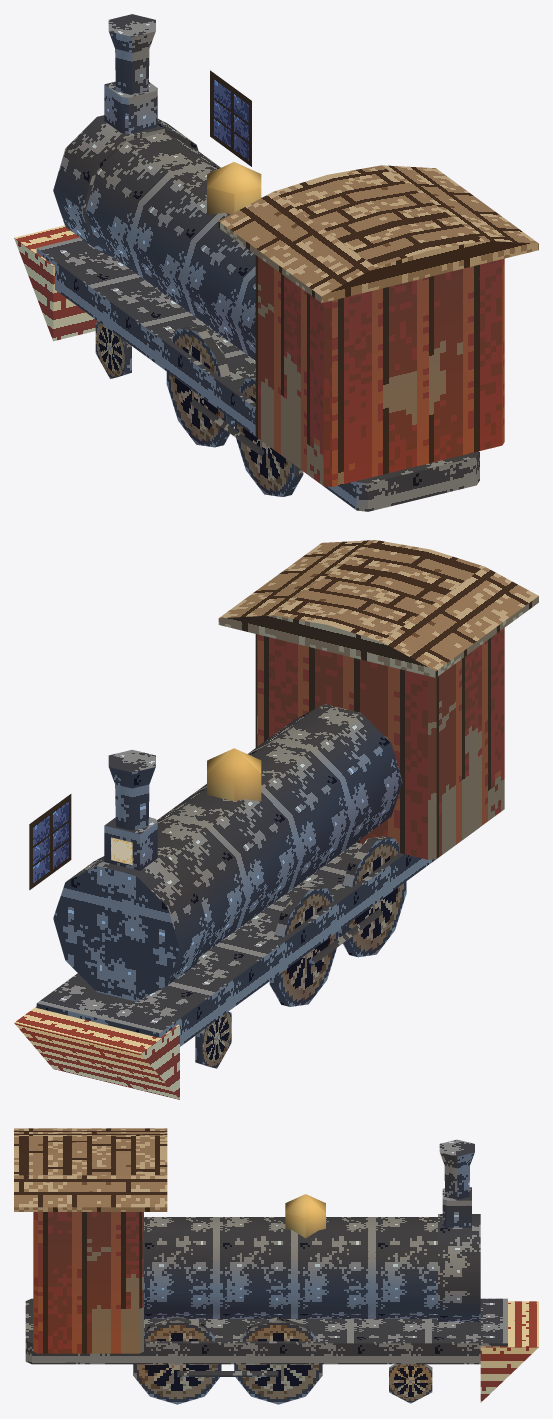
Rendered from wrail.locomotive__straight_stack.glb.
The picture shows the model from 3 angles, top to bottom: view 1: azimuth 30°, elevation 25°; view 2: azimuth 150°, elevation 25°; view 3: azimuth 270°, elevation 25°; orthographic projection. The views are drawn at different scales.
Visible parts, largest first — view 1: kit_cab, kit_cab_roof, kit_boiler, kit_frame, kit_drivers, kit_smokebox, kit_pilot, kit_stack, kit_card_panes, kit_domes, kit_lamp, kit_leaders (+1 smaller); view 2: kit_boiler, kit_cab, kit_cab_roof, kit_frame, kit_smokebox, kit_pilot, kit_drivers, kit_stack, kit_card_panes, kit_domes, kit_lamp, kit_leaders; view 3: kit_boiler, kit_frame, kit_cab, kit_cab_roof, kit_drivers, kit_smokebox, kit_pilot, kit_stack, kit_leaders, kit_domes, kit_lamp, kit_rods.
Part boxes in pixels (x1,y1,x2,y2): kit_cab: (255,255,504,486); kit_cab_roof: (218,165,538,302); kit_boiler: (85,132,261,360); kit_frame: (36,237,479,511); kit_drivers: (166,326,303,496); kit_smokebox: (53,115,198,259); kit_pilot: (14,225,98,341); kit_stack: (108,14,155,94); kit_card_panes: (210,70,251,166); kit_domes: (207,162,261,214); kit_lamp: (104,81,157,133); kit_leaders: (95,322,131,378); kit_boiler: (157,704,402,956); kit_cab: (255,628,504,859); kit_cab_roof: (218,540,538,677); kit_frame: (36,828,478,1046); kit_smokebox: (53,853,208,1001); kit_pilot: (14,1006,179,1099); kit_drivers: (269,836,406,1006); kit_stack: (108,749,155,830); kit_card_panes: (29,794,71,890); kit_domes: (207,748,261,801); kit_lamp: (104,817,157,870); kit_leaders: (195,1011,231,1068); kit_boiler: (144,1217,437,1318); kit_frame: (25,1298,507,1364); kit_cab: (33,1212,143,1353); kit_cab_roof: (14,1128,167,1211); kit_drivers: (133,1317,322,1404); kit_smokebox: (438,1214,480,1321); kit_pilot: (480,1301,538,1402); kit_stack: (439,1139,474,1199); kit_leaders: (389,1364,432,1403); kit_domes: (285,1194,325,1238); kit_lamp: (442,1187,471,1227); kit_rods: (177,1371,278,1376).
Size of the model in its own units: 2.4 by 3.35 by 6.75.
8 materials, 7 textured.
